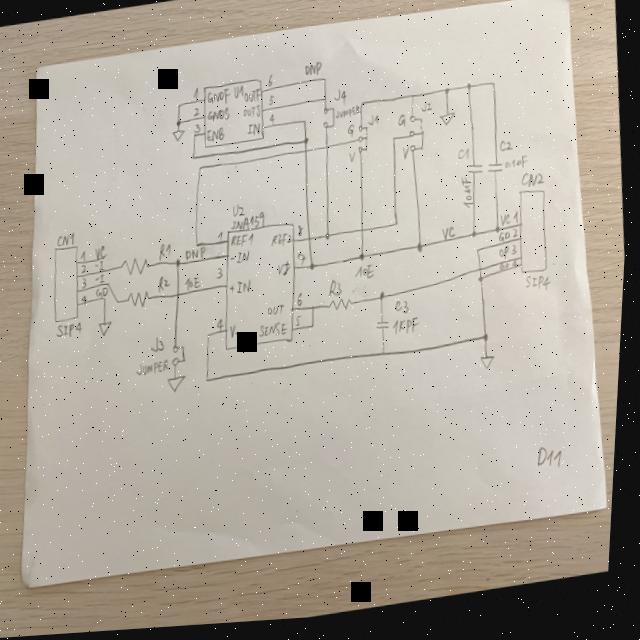capacitor: (467, 168, 486, 182), (377, 323, 394, 337), (489, 168, 506, 181)
crossover: (360, 231, 368, 239), (325, 147, 332, 154), (178, 293, 184, 300), (304, 152, 309, 159), (479, 272, 484, 278), (309, 241, 313, 245)
ground: (169, 376, 191, 397), (438, 115, 458, 132), (483, 360, 500, 378), (100, 321, 117, 339), (172, 129, 188, 145)
junction: (325, 235, 334, 245), (176, 260, 185, 270), (381, 295, 389, 306), (418, 247, 426, 258), (472, 235, 480, 245), (444, 92, 452, 100), (176, 120, 184, 128), (485, 339, 492, 348), (361, 257, 368, 266), (480, 281, 487, 290), (304, 140, 311, 148), (207, 378, 214, 386), (477, 254, 484, 262), (312, 267, 319, 275), (104, 298, 110, 307), (466, 89, 473, 96), (383, 355, 390, 362), (396, 225, 402, 233), (496, 232, 502, 240), (191, 157, 198, 163), (313, 308, 319, 315), (322, 81, 329, 87), (302, 122, 308, 128), (177, 105, 183, 111), (313, 327, 319, 333), (360, 105, 366, 111), (411, 98, 416, 105), (199, 167, 204, 174), (209, 335, 214, 341), (393, 141, 398, 147), (492, 86, 497, 92), (109, 282, 113, 288), (197, 244, 201, 249), (118, 301, 122, 306), (324, 101, 328, 105), (193, 136, 197, 139)
resistor: (121, 256, 154, 281), (129, 290, 153, 311), (331, 301, 356, 316)
switch: (406, 118, 428, 159), (356, 128, 372, 159), (173, 345, 191, 369), (321, 109, 338, 134)
terminal: (516, 193, 554, 282), (50, 245, 87, 325)
text: (232, 215, 267, 236), (394, 320, 425, 343), (139, 360, 174, 379), (261, 323, 293, 343), (527, 279, 556, 300), (461, 181, 477, 218), (57, 321, 87, 340), (522, 176, 548, 196), (232, 234, 257, 254), (207, 90, 233, 109), (505, 160, 531, 178), (334, 109, 363, 125), (272, 234, 296, 253), (207, 109, 232, 126), (231, 282, 255, 299), (186, 248, 210, 264), (303, 64, 323, 83), (357, 267, 377, 286), (207, 128, 227, 146), (57, 232, 78, 249), (232, 252, 253, 269), (244, 90, 263, 108), (243, 106, 263, 123), (159, 242, 175, 262), (333, 92, 349, 112), (330, 282, 346, 302), (159, 277, 174, 297), (269, 307, 289, 322), (153, 338, 169, 356), (442, 230, 460, 246), (279, 262, 295, 280), (187, 277, 204, 293), (233, 205, 249, 221), (398, 303, 413, 320), (499, 235, 514, 251), (247, 124, 262, 140), (500, 145, 515, 160), (232, 326, 245, 343), (500, 251, 513, 267), (368, 117, 381, 133), (97, 286, 113, 299), (397, 118, 409, 135), (218, 319, 228, 339), (421, 105, 435, 119), (458, 153, 472, 167), (402, 150, 414, 166), (97, 245, 109, 261), (233, 87, 245, 103), (501, 219, 514, 233), (500, 266, 514, 279), (347, 127, 357, 144), (82, 274, 92, 291), (81, 263, 91, 279), (298, 256, 310, 269), (96, 261, 107, 275), (298, 227, 308, 242), (192, 89, 202, 104), (298, 296, 307, 311), (267, 97, 277, 110), (267, 75, 275, 91), (269, 116, 278, 130), (96, 274, 107, 285), (82, 294, 92, 306), (194, 125, 203, 138), (219, 269, 227, 283), (193, 108, 202, 120), (349, 155, 358, 167), (512, 251, 521, 263), (81, 251, 91, 261), (297, 319, 306, 330), (515, 218, 522, 230), (514, 267, 522, 277), (514, 235, 521, 245), (220, 234, 225, 243)
